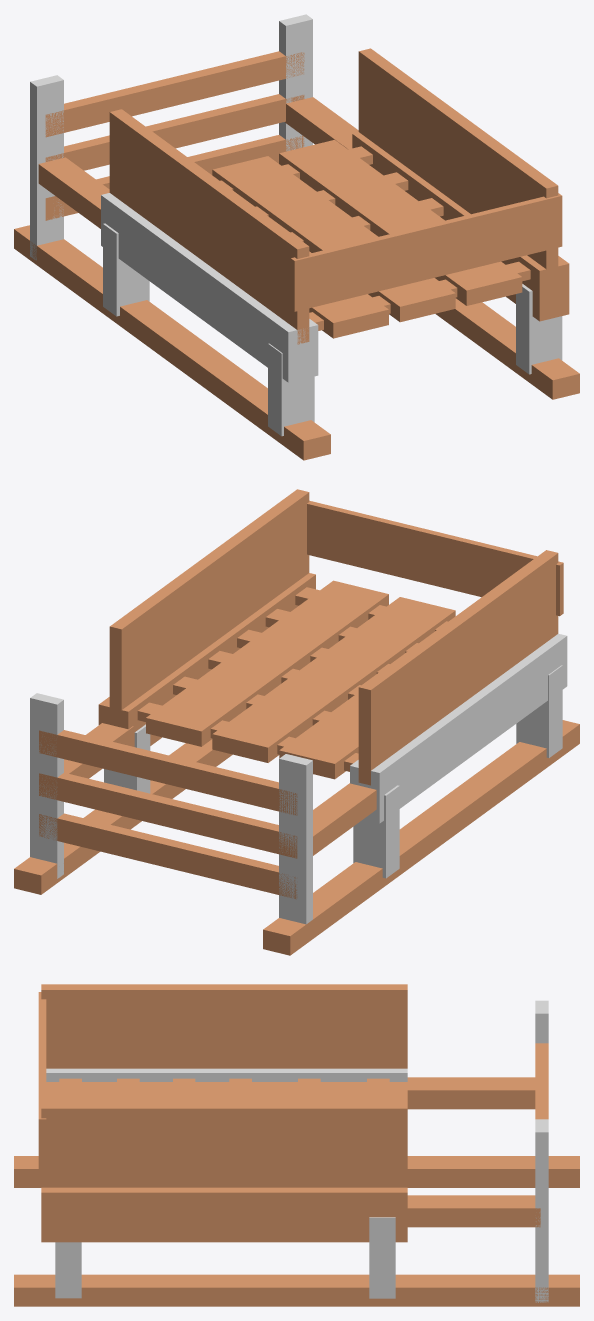
File: woodenSledge.fbx
3 renders of one model, top to bottom at view 1: azimuth 30°, elevation 25°; view 2: azimuth 150°, elevation 25°; view 3: azimuth 270°, elevation 25°, orthographic. The views are drawn at different scales.
Visible parts, largest first — view 1: Cube.006; view 2: Cube.006; view 3: Cube.006.
Boxes of the visible parts, box(x1,y1,x2,y2) form: Cube.006: box(14, 14, 579, 460); Cube.006: box(14, 489, 579, 955); Cube.006: box(14, 984, 579, 1306).
Size of the model in its own units: 168 by 112 by 296.
